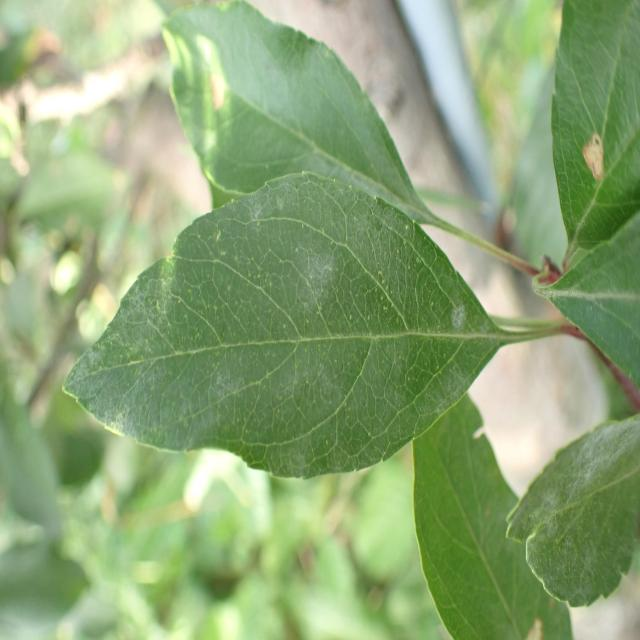Black Rot: (194, 31, 244, 131), (574, 124, 612, 198)
Powdery_mildew: (70, 188, 506, 500), (501, 402, 640, 618)
